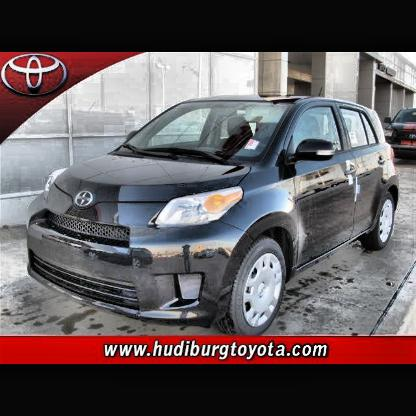Scion xD Hatchback 2012: (25, 96, 402, 336)
